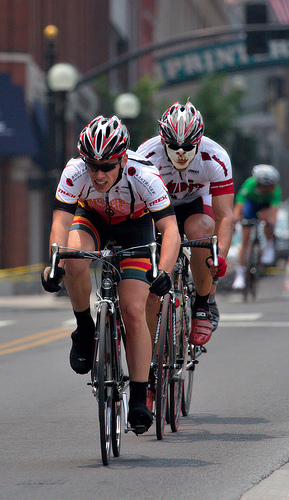helmet: (73, 114, 139, 168), (155, 107, 212, 147)
